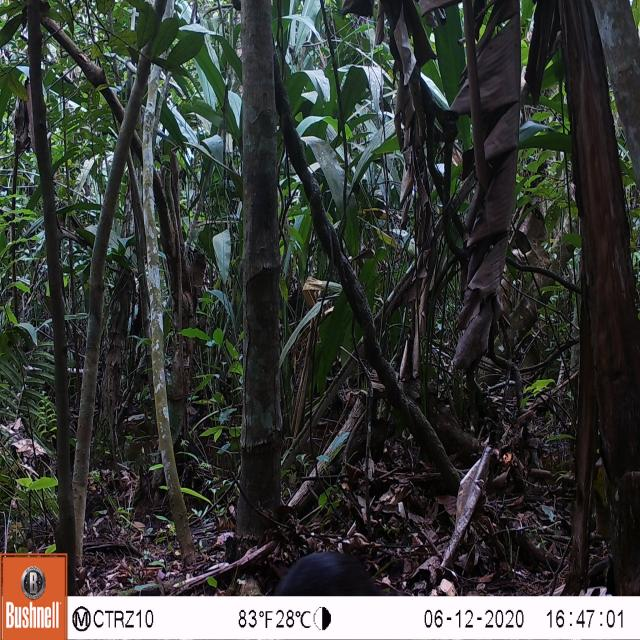Black Agouti: (246, 528, 400, 596)
